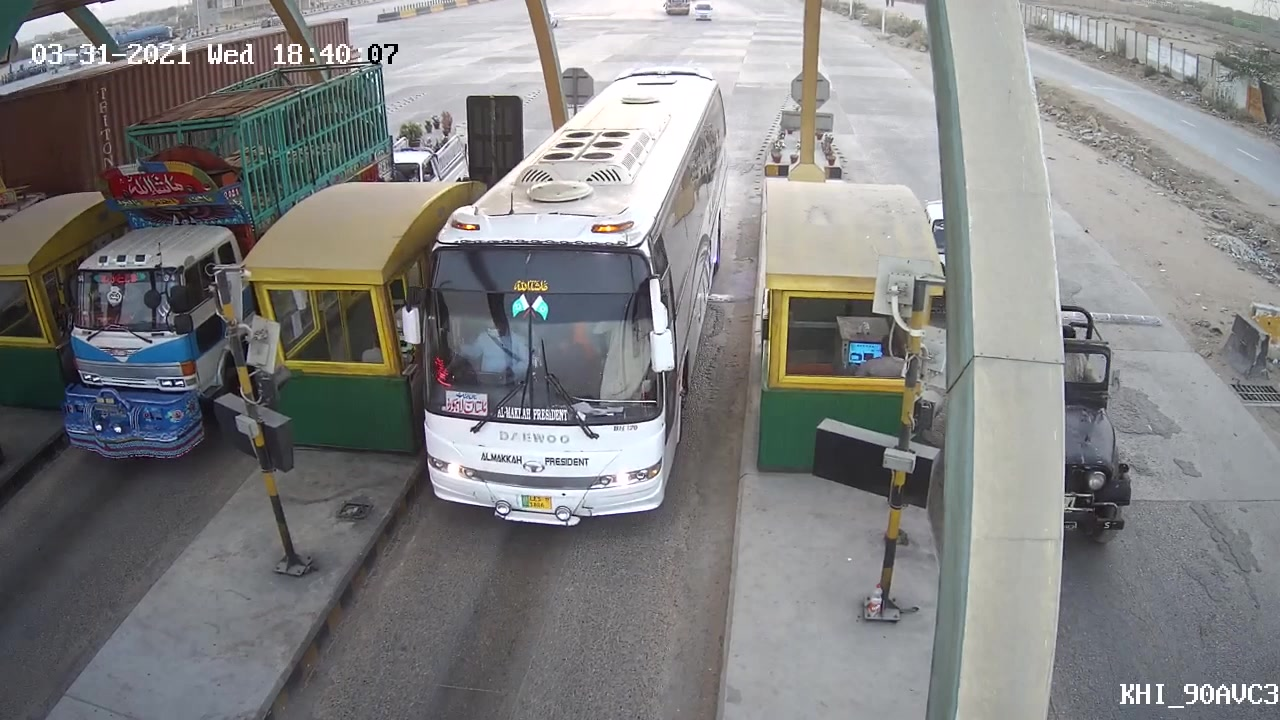F4: (394, 213, 690, 535)
